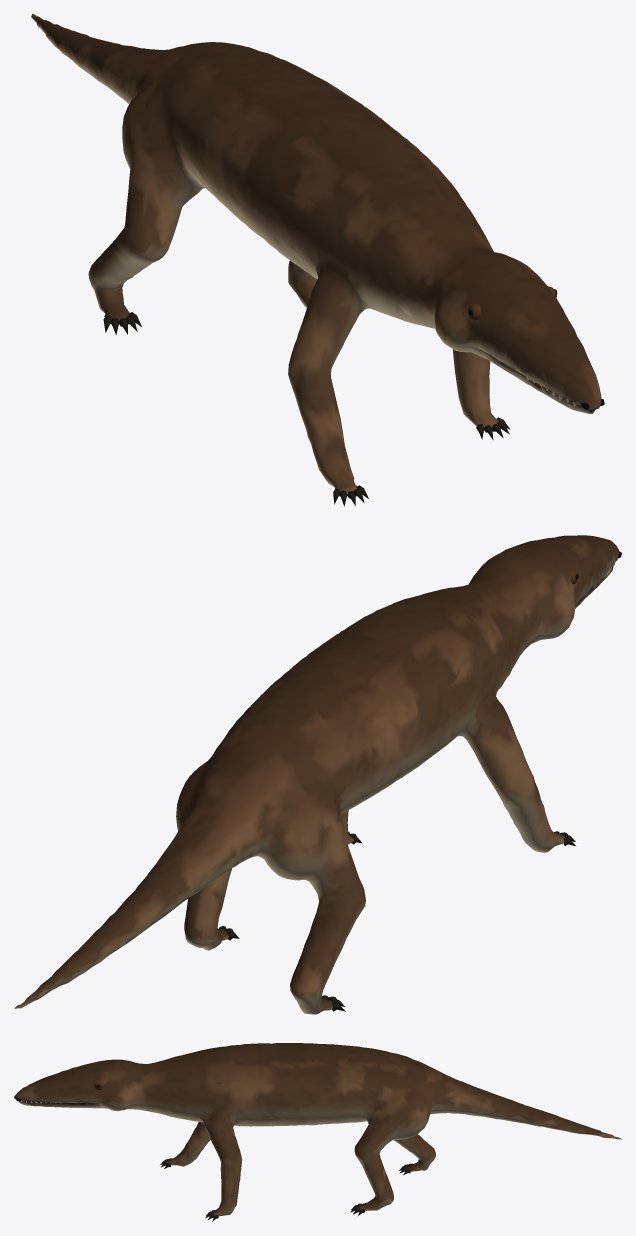
File: Thrinaxodon.fbx
The picture shows the model from 3 angles, top to bottom: view 1: azimuth 30°, elevation 25°; view 2: azimuth 150°, elevation 25°; view 3: azimuth 270°, elevation 25°; orthographic projection. The views are drawn at different scales.
Visible parts, largest first — view 1: Thrinaxodon; view 2: Thrinaxodon; view 3: Thrinaxodon.
Boxes of the visible parts, x1,y1,x2,y2 form: Thrinaxodon: (31, 14, 604, 506); Thrinaxodon: (14, 535, 621, 1014); Thrinaxodon: (14, 1043, 621, 1221).
Bounding box in the file's own units: 0.3668 × 0.4671 × 1.75.
